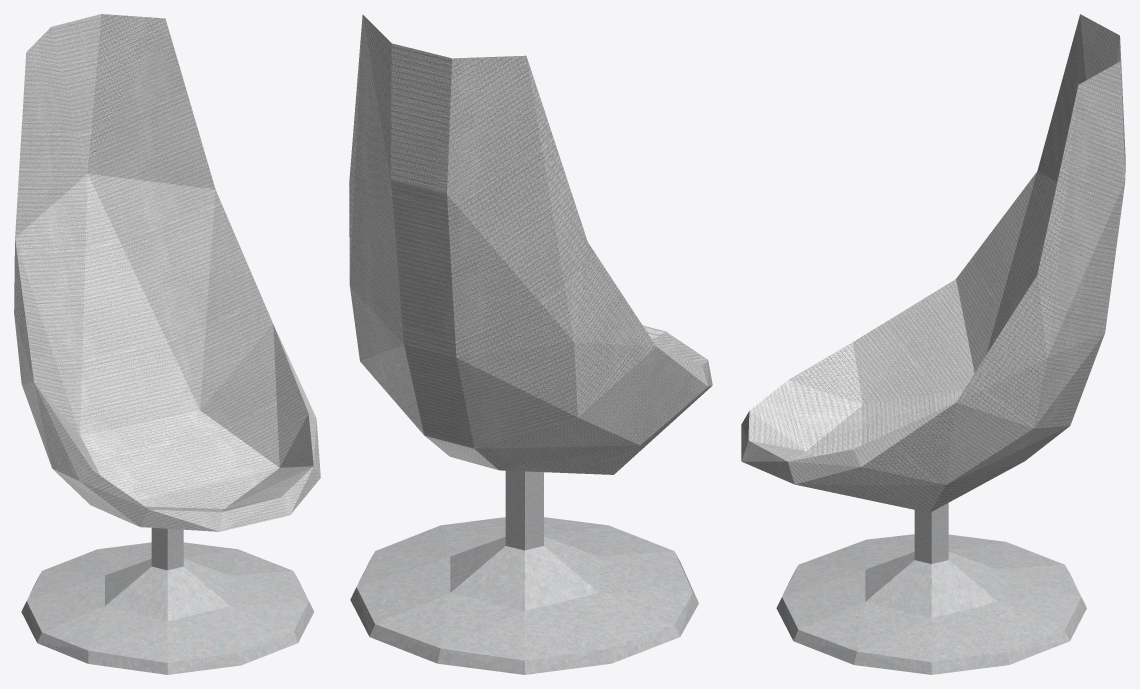
The model's file is frn_all_mdrn_chair_s01_l1.fbx.
3 renders of one model, left to right at view 1: azimuth 30°, elevation 25°; view 2: azimuth 150°, elevation 25°; view 3: azimuth 270°, elevation 25°, orthographic. The views are drawn at different scales.
Parts seen in each view (by area): view 1: mesh_node; view 2: mesh_node; view 3: mesh_node.
Boxes of the visible parts, <box> form: mesh_node: <box>14,14,320,674</box>; mesh_node: <box>349,14,712,674</box>; mesh_node: <box>741,14,1125,674</box>.
Bounding box in the file's own units: 0.7289 × 1.41 × 0.8768.
